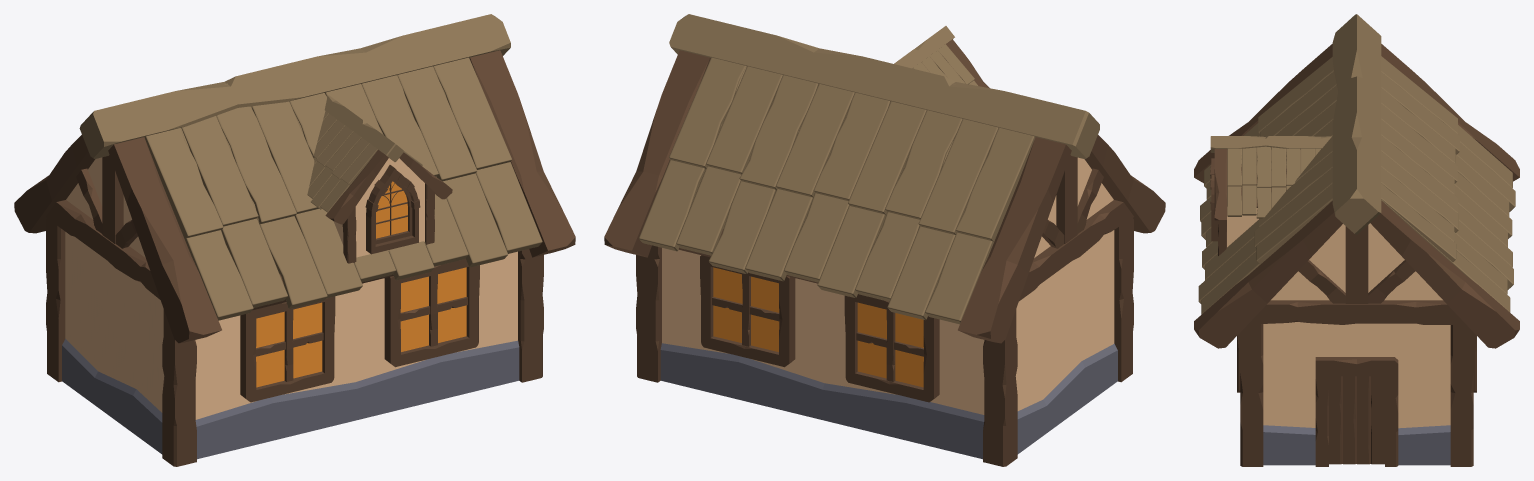
Rendered from HOUSE_4.fbx.
3 renders of one model, left to right at view 1: azimuth 30°, elevation 25°; view 2: azimuth 150°, elevation 25°; view 3: azimuth 270°, elevation 25°, orthographic. The views are drawn at different scales.
Parts seen in each view (by area): view 1: Cube.058, Cube.049, Cube.057, Cube.050, Cube.054, Plane.053, Plane.037, Plane.046, Plane.049, Plane.050, Plane.047, Cube.051 (+12 smaller); view 2: Cube.059, Cube.055, Cube.049, Cube.050, Cube.054, Plane.053, Plane.037, Plane.046, Plane.049, Plane.050, Plane.047, Cube.051 (+6 smaller); view 3: Cube.049, Cube.050, Cube.059, Plane.053, Cube.055, Cube.058, Plane.037, Plane.045, Cube.051, Cube.054, Plane.038, Cube.057 (+8 smaller).
Boxes of the visible parts, <box> form: Cube.058: <box>145,57,511,237</box>; Cube.049: <box>65,157,517,419</box>; Cube.057: <box>145,85,542,320</box>; Cube.050: <box>14,50,575,343</box>; Cube.054: <box>62,339,519,459</box>; Plane.053: <box>79,14,510,158</box>; Plane.037: <box>46,218,543,466</box>; Plane.046: <box>384,258,479,367</box>; Plane.049: <box>240,296,335,402</box>; Plane.050: <box>256,302,322,387</box>; Plane.047: <box>400,267,466,351</box>; Cube.051: <box>46,200,160,299</box>; Cube.059: <box>669,57,1035,241</box>; Cube.055: <box>639,66,1001,324</box>; Cube.049: <box>662,157,1114,414</box>; Cube.050: <box>604,50,1165,343</box>; Cube.054: <box>660,343,1117,459</box>; Plane.053: <box>669,14,1099,158</box>; Plane.037: <box>636,218,1133,466</box>; Plane.046: <box>700,255,795,367</box>; Plane.049: <box>844,294,939,402</box>; Plane.050: <box>857,302,923,387</box>; Plane.047: <box>713,267,779,351</box>; Cube.051: <box>1019,200,1133,301</box>; Cube.049: <box>1263,223,1450,428</box>; Cube.050: <box>1194,44,1519,348</box>; Cube.059: <box>1357,56,1459,261</box>; Plane.053: <box>1332,14,1381,234</box>; Cube.055: <box>1381,125,1515,312</box>; Cube.058: <box>1254,57,1337,264</box>; Plane.037: <box>1240,324,1473,466</box>; Plane.045: <box>1329,376,1384,464</box>; Cube.051: <box>1248,300,1466,324</box>; Cube.054: <box>1263,425,1450,465</box>; Plane.038: <box>1315,357,1398,466</box>; Cube.057: <box>1198,71,1333,314</box>.
Bounding box in the file's own units: 1243 × 915 × 954.
